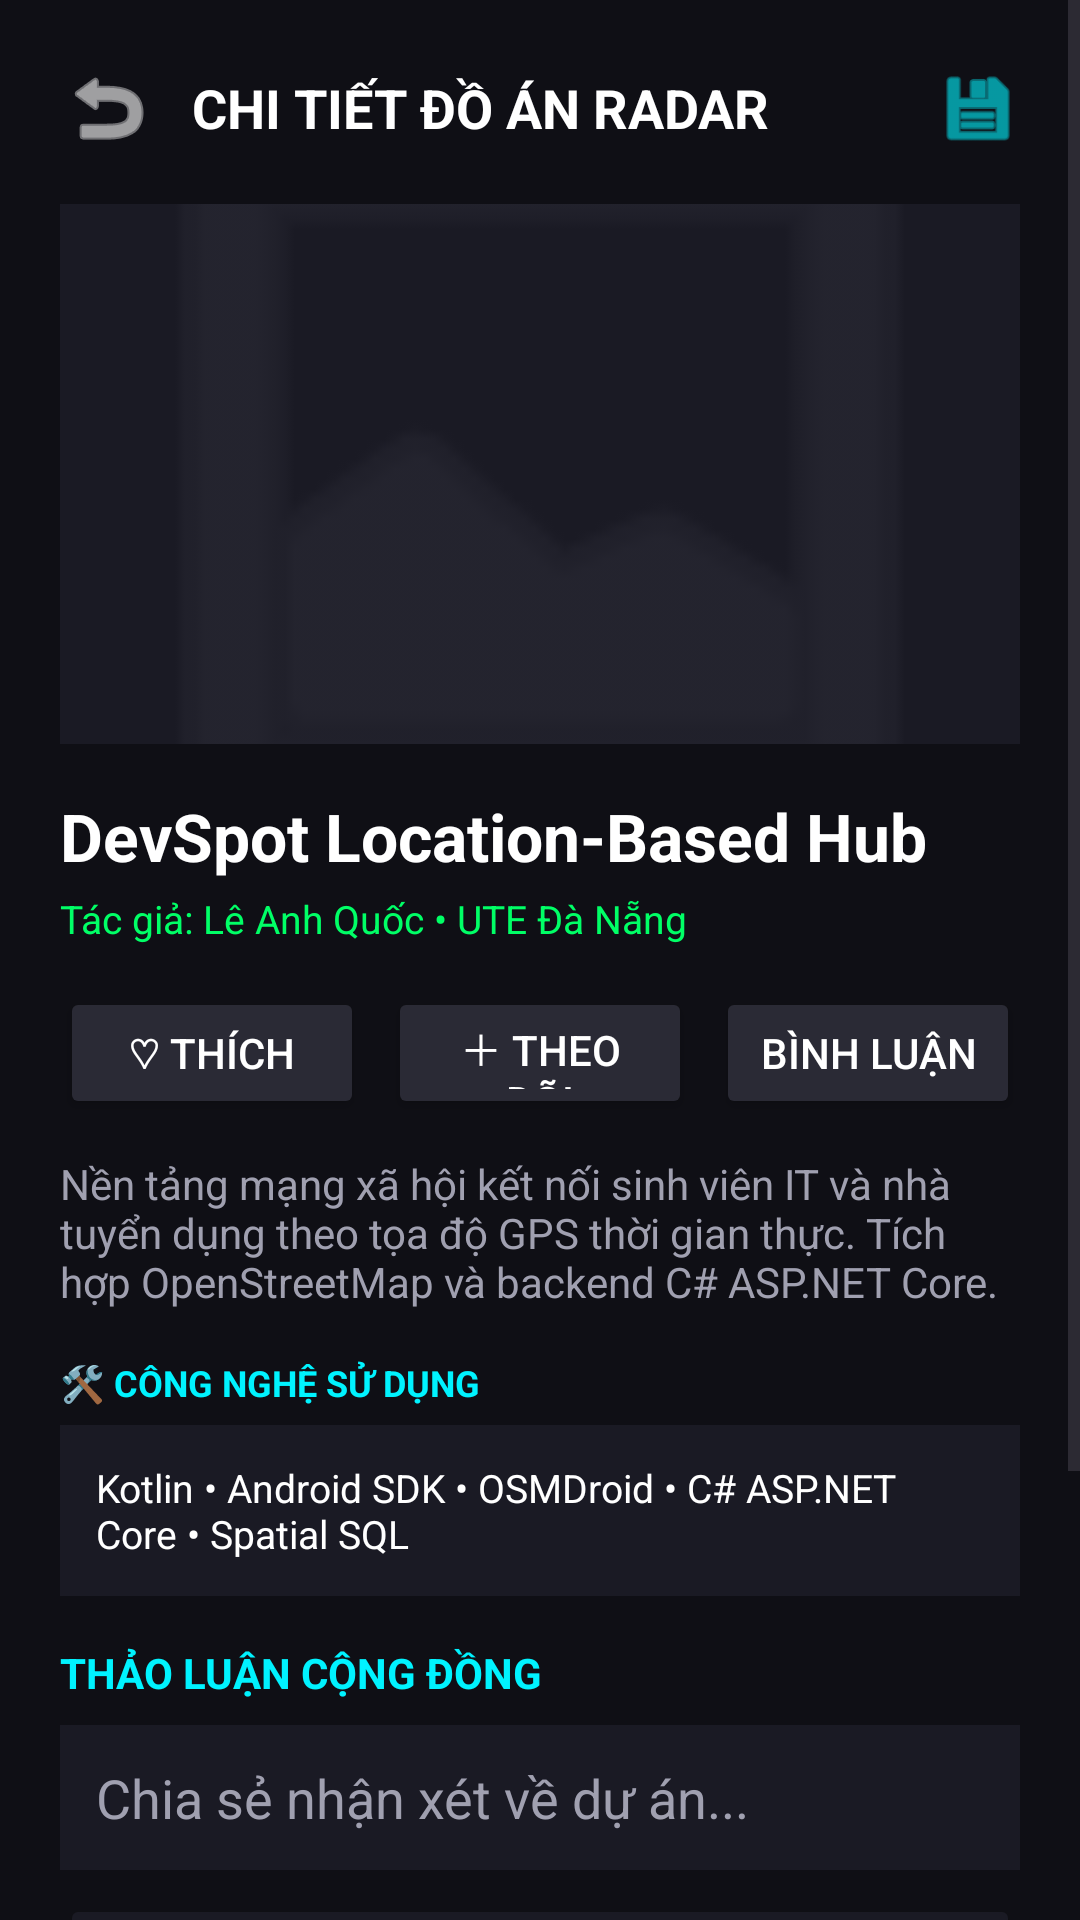

Icon click points for this 1080px x 1920px phone screenshot, format point (x, y):
revert: point (109, 108)
save: point (978, 108)
